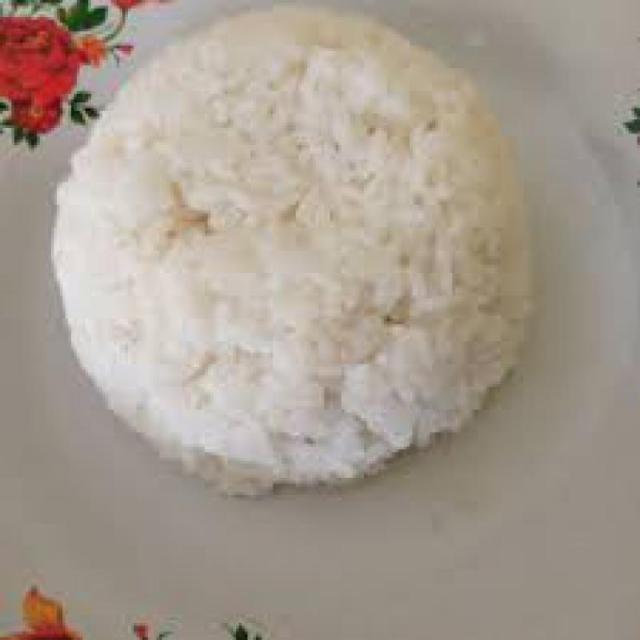nasi_putih: (54, 12, 530, 497)
